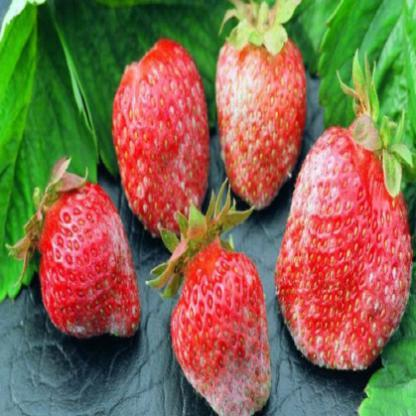Strawberry_Powdery_Mildew_Fruit: (273, 125, 414, 370), (112, 38, 209, 238), (168, 232, 273, 415), (216, 24, 306, 210), (37, 178, 142, 336)
